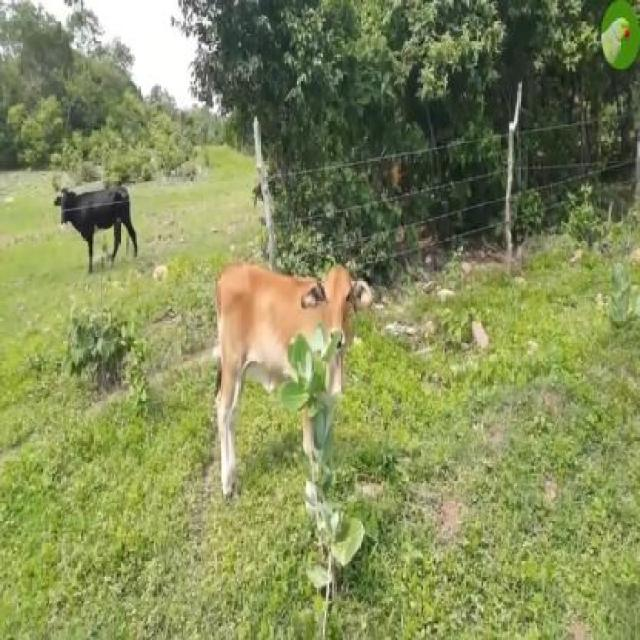Cow: (217, 265, 371, 500), (54, 186, 137, 266)
